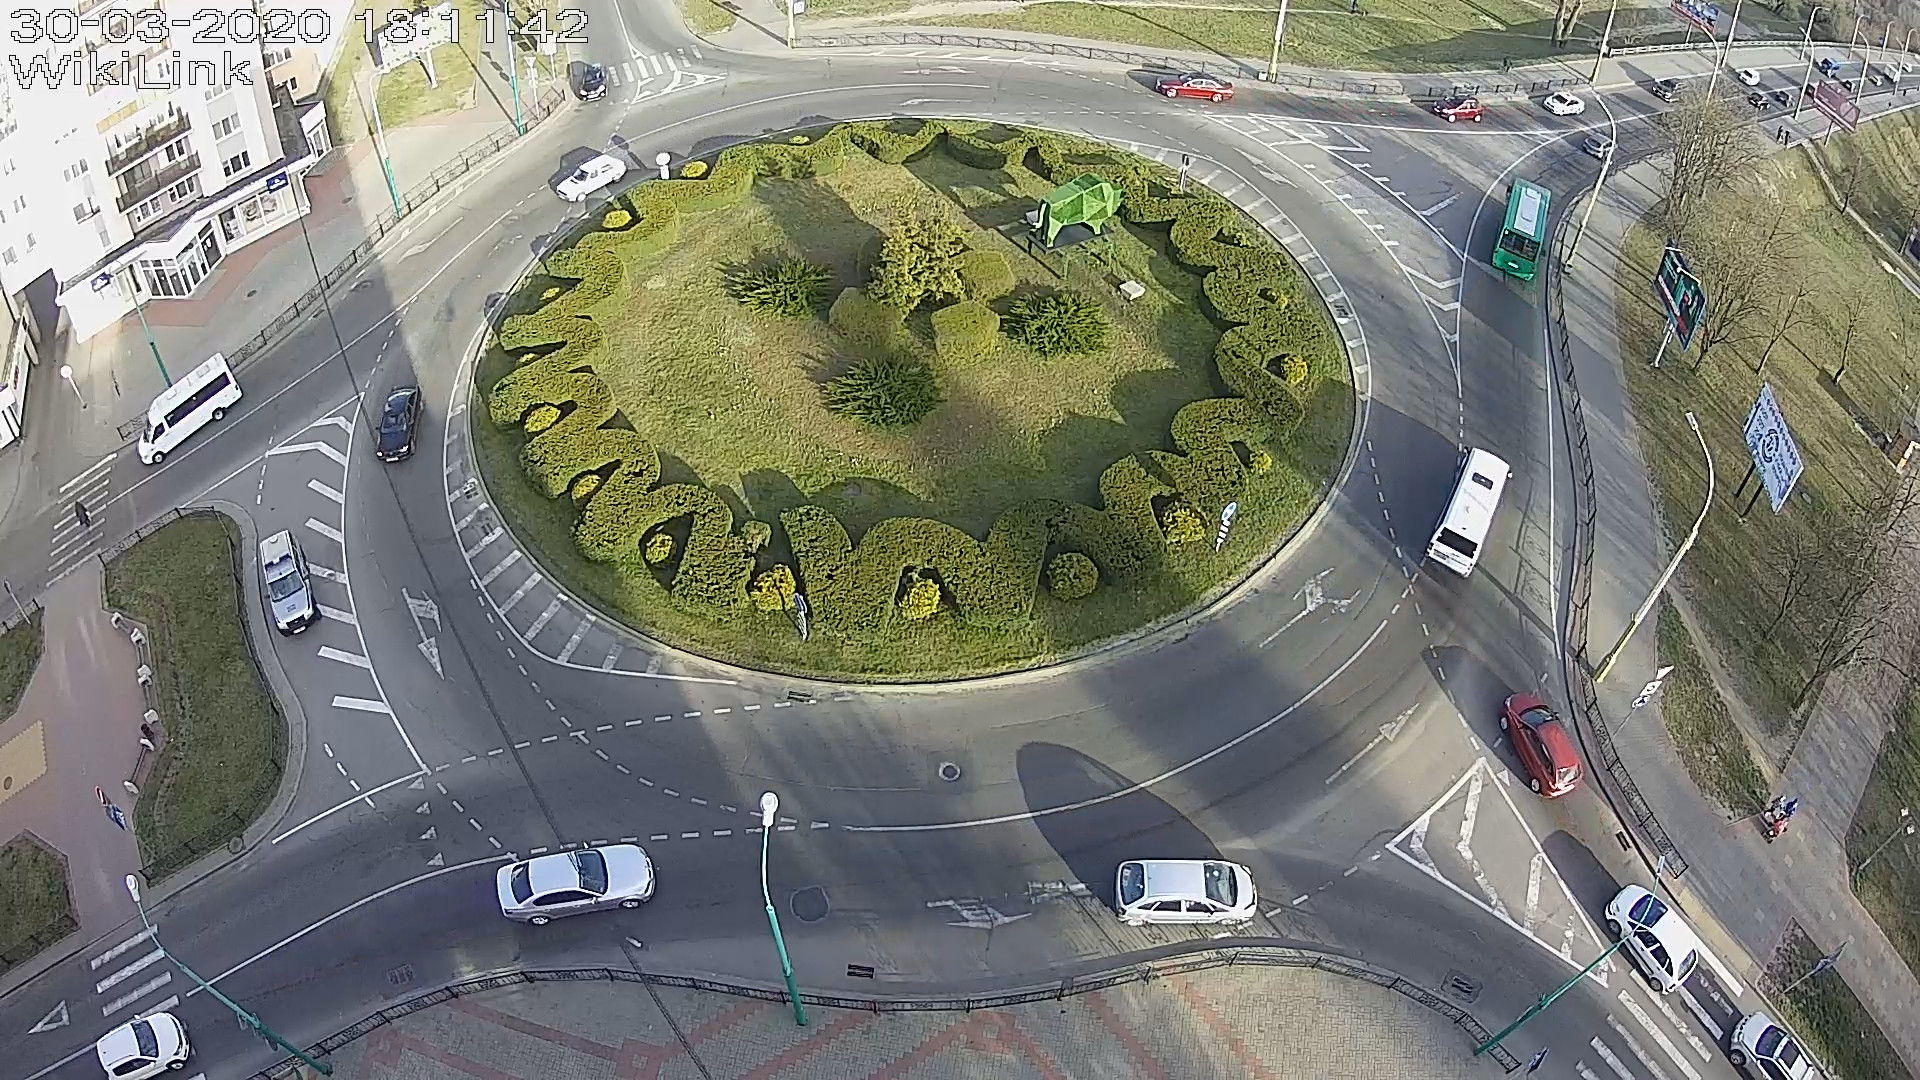bus: (1490, 177, 1552, 284)
car: (496, 843, 655, 926), (137, 352, 243, 465), (1425, 444, 1513, 579), (1604, 884, 1698, 996), (1116, 857, 1258, 927), (1499, 691, 1585, 800), (258, 529, 322, 638), (95, 1011, 193, 1080), (1730, 1011, 1816, 1080), (375, 384, 426, 463), (556, 156, 626, 203), (1155, 71, 1236, 103), (1432, 94, 1486, 123), (579, 63, 608, 103), (1543, 92, 1585, 116), (1582, 133, 1618, 160)
